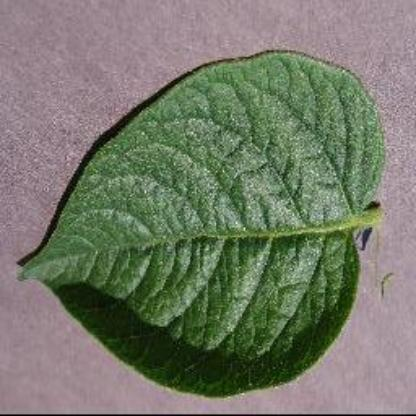Healthy-plant: (13, 48, 388, 400)
